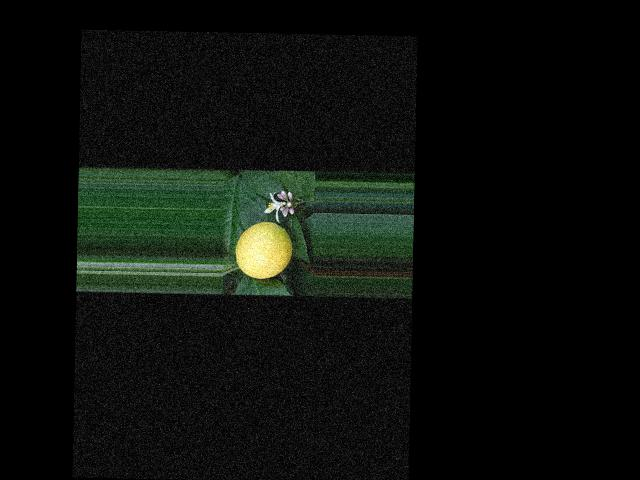lemon: (227, 215, 297, 287)
